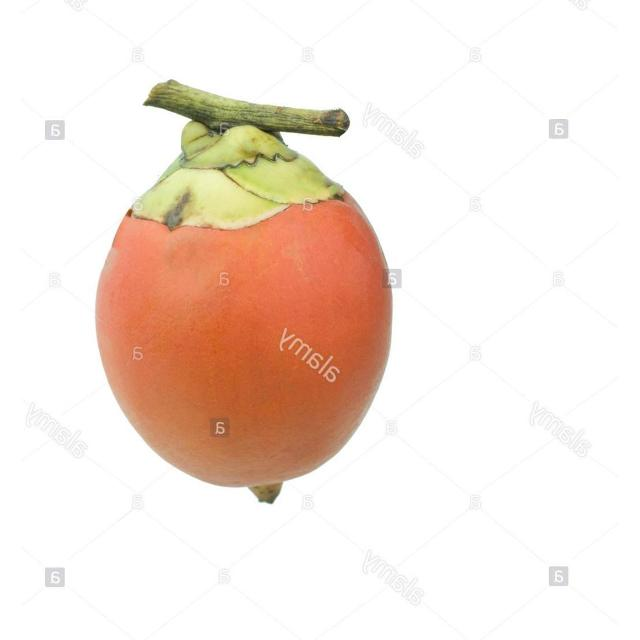good: (94, 121, 394, 496)
